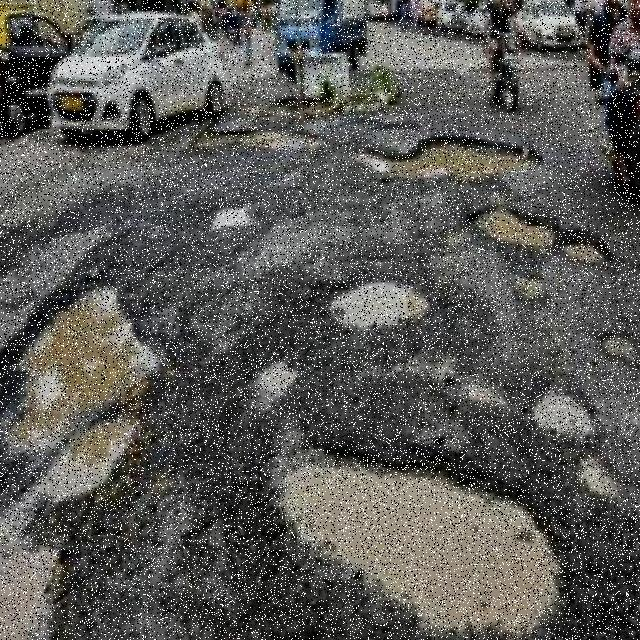pothole: (0, 288, 156, 640), (276, 457, 561, 633), (353, 134, 546, 182), (464, 210, 614, 264), (327, 278, 436, 332), (533, 388, 600, 444), (577, 455, 626, 501), (254, 362, 299, 409), (208, 204, 250, 234)
